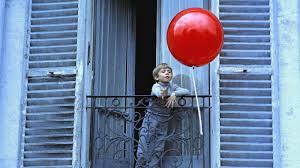red: (166, 7, 224, 69)
